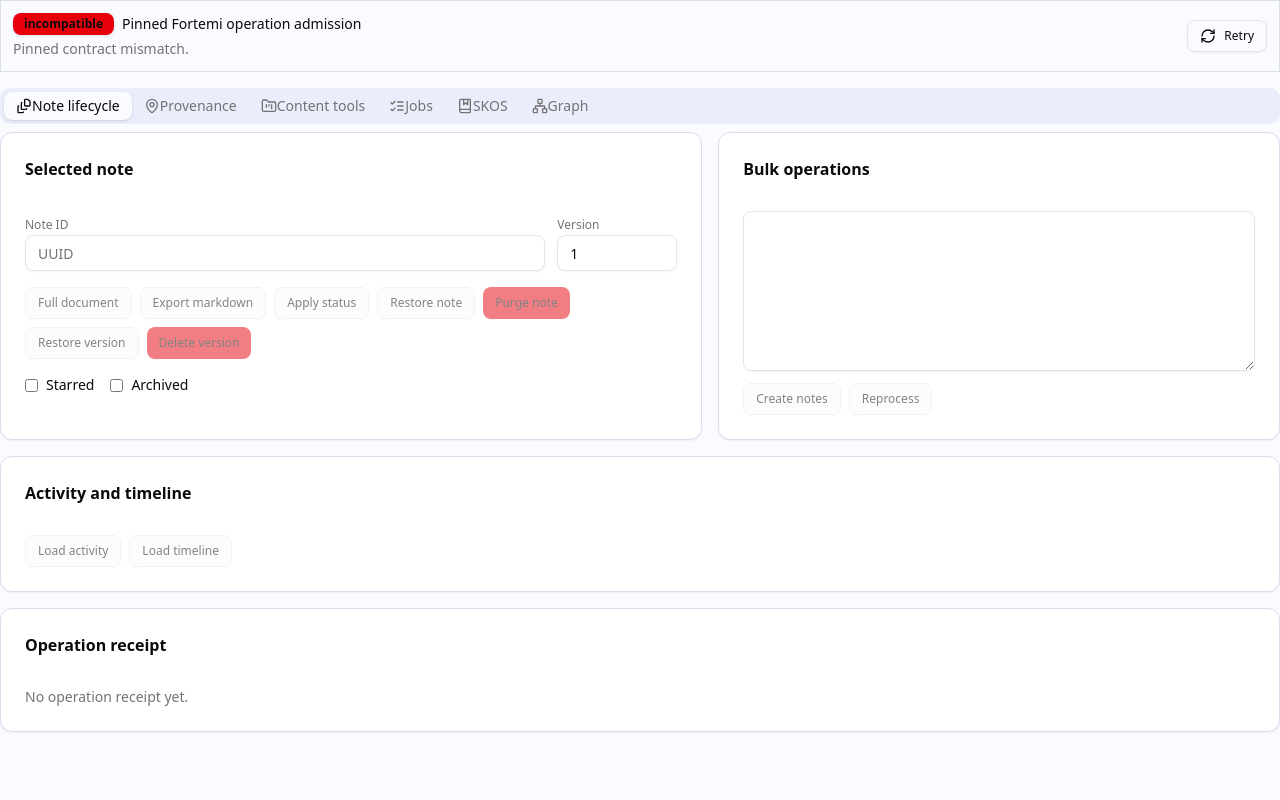
Test: CoreContentLifecyclePanel › fails closed when compatibility admission is unavailable
The width and height of the screenshot is (1280, 800).
Expected: the text "Pinned contract mismatch." is shown, [13,39,189,58]
Expected: the button "Purge note" is disabled, [483,287,570,319]
Step 1. Click the tab "Provenance" → coordinates (190, 106), box [132,92,249,120]
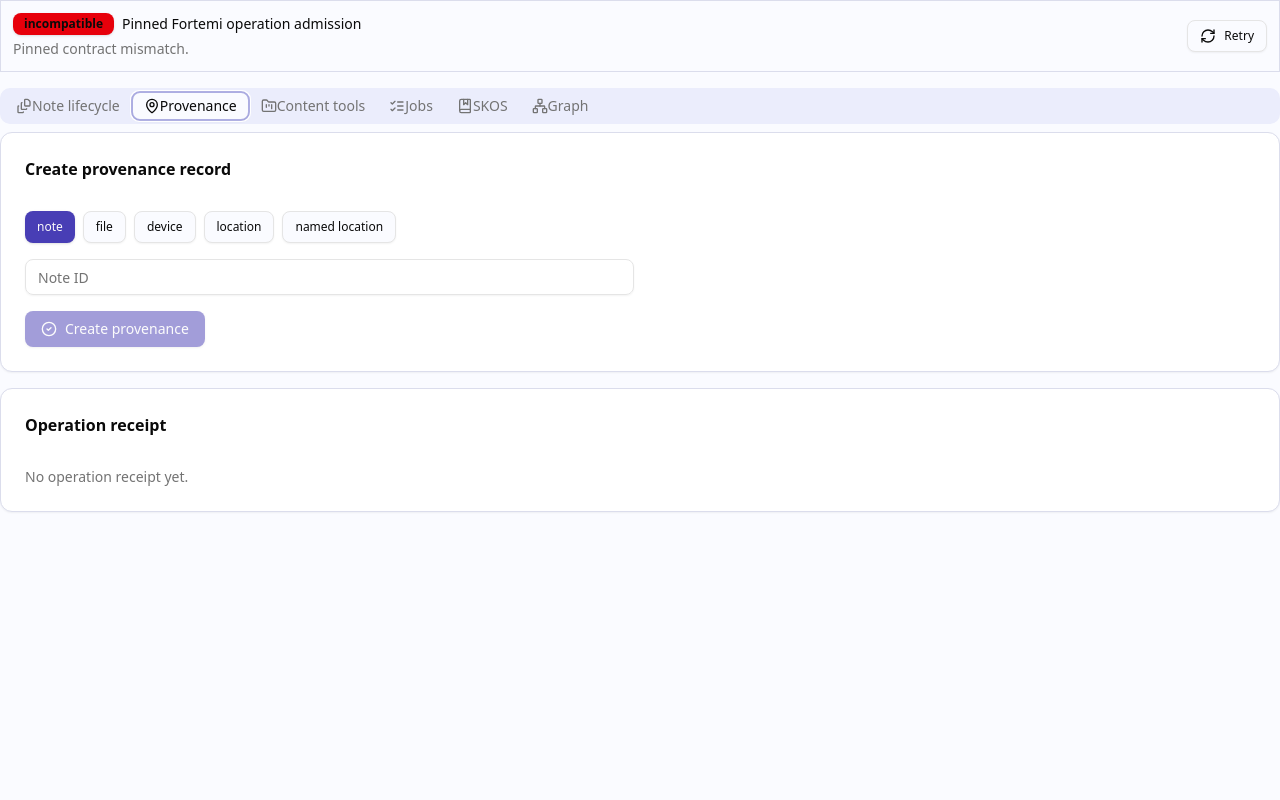
Result: the button "Create provenance" is disabled at [25,311,205,347]
